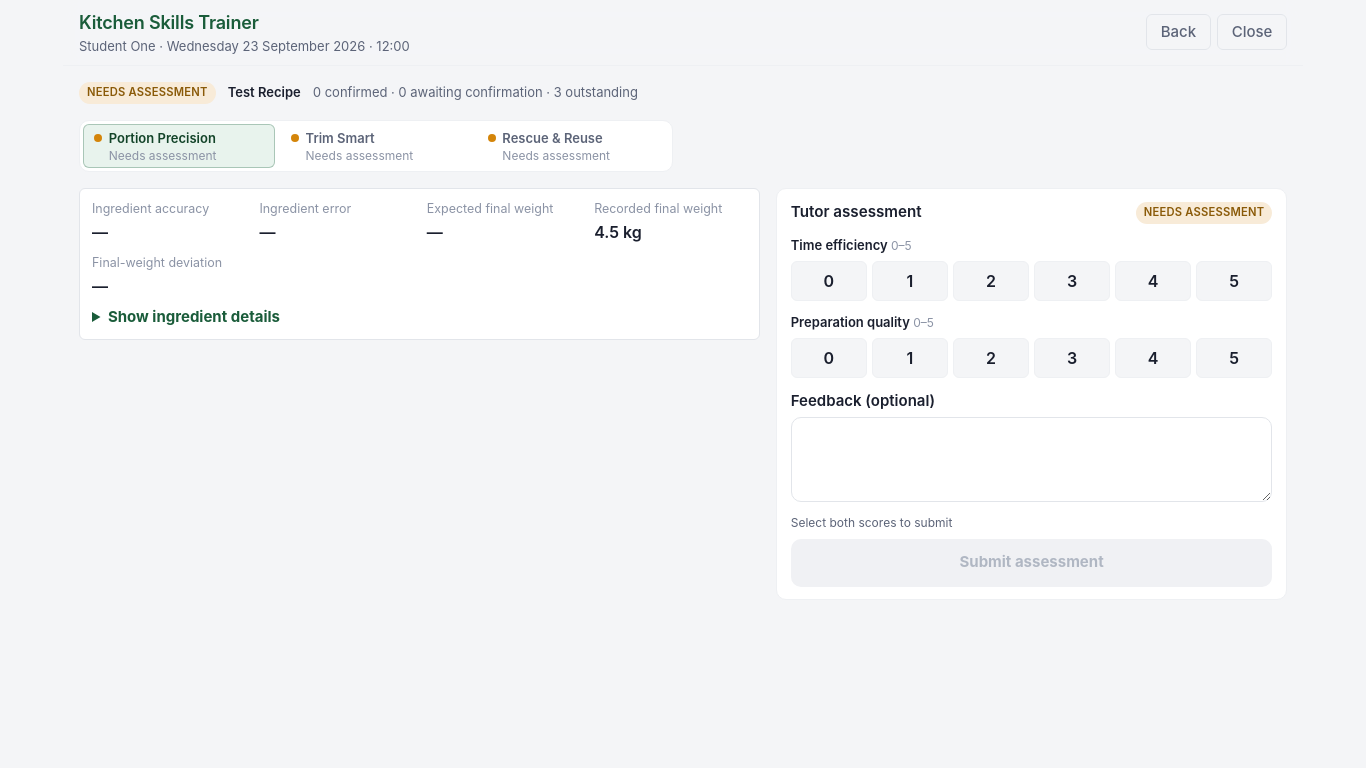
Kitchen Day module chef review › clears assessment inputs when switching module tabs
Click the tab with test id "kitchen-day-tutor-module-tab-trimSmart" at point(376, 146), box [280,124,472,168]
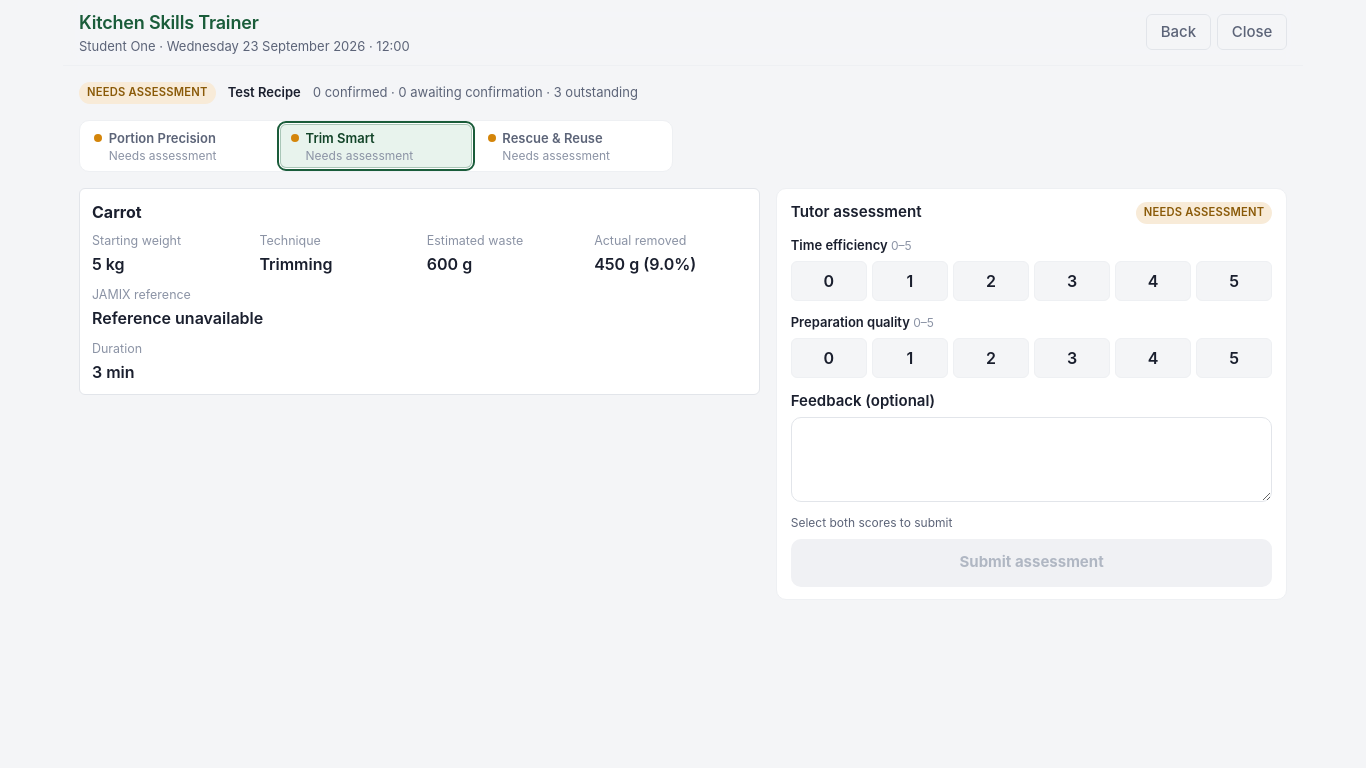
Type "4" into the field with test id "kitchen-day-review-time" at point(1032, 269), box [791,236,1272,301]
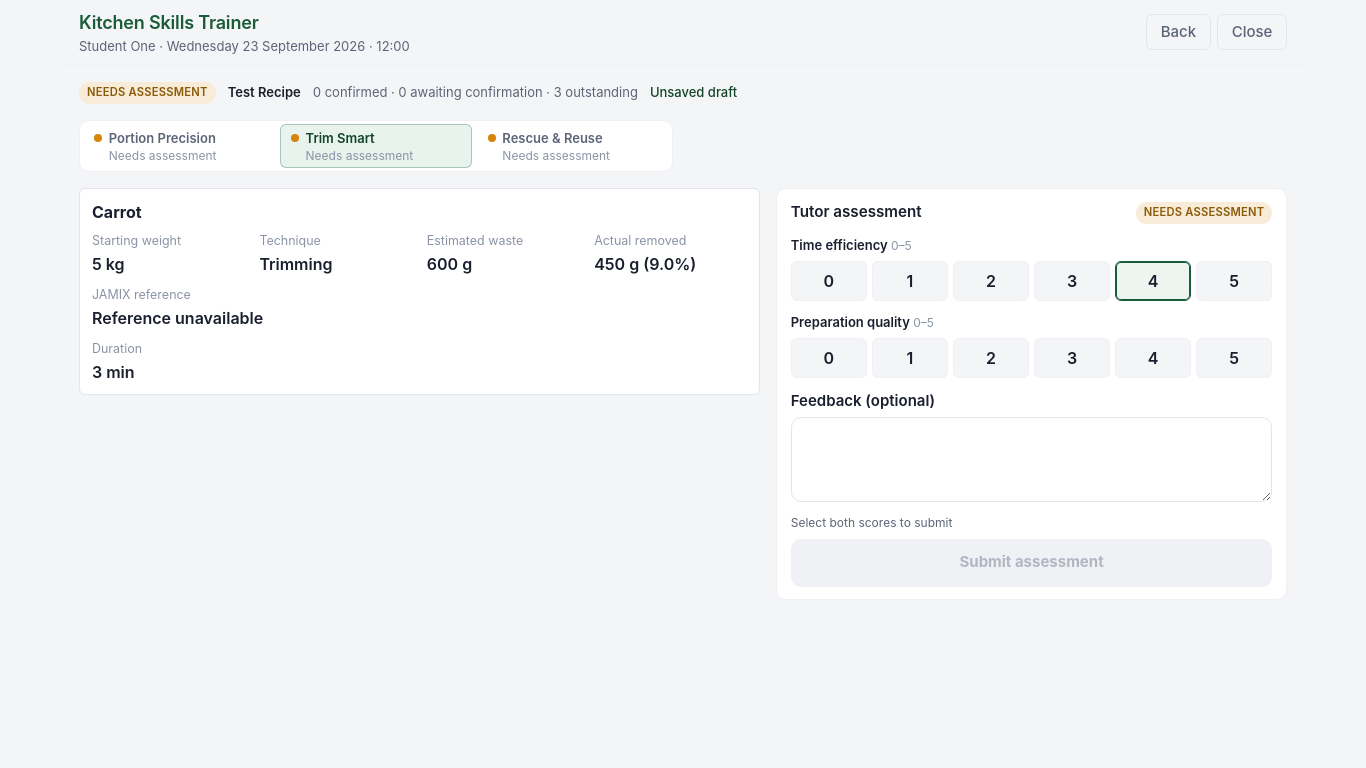
Type "5" into the field with test id "kitchen-day-review-quality" at point(1032, 346), box [791,313,1272,378]
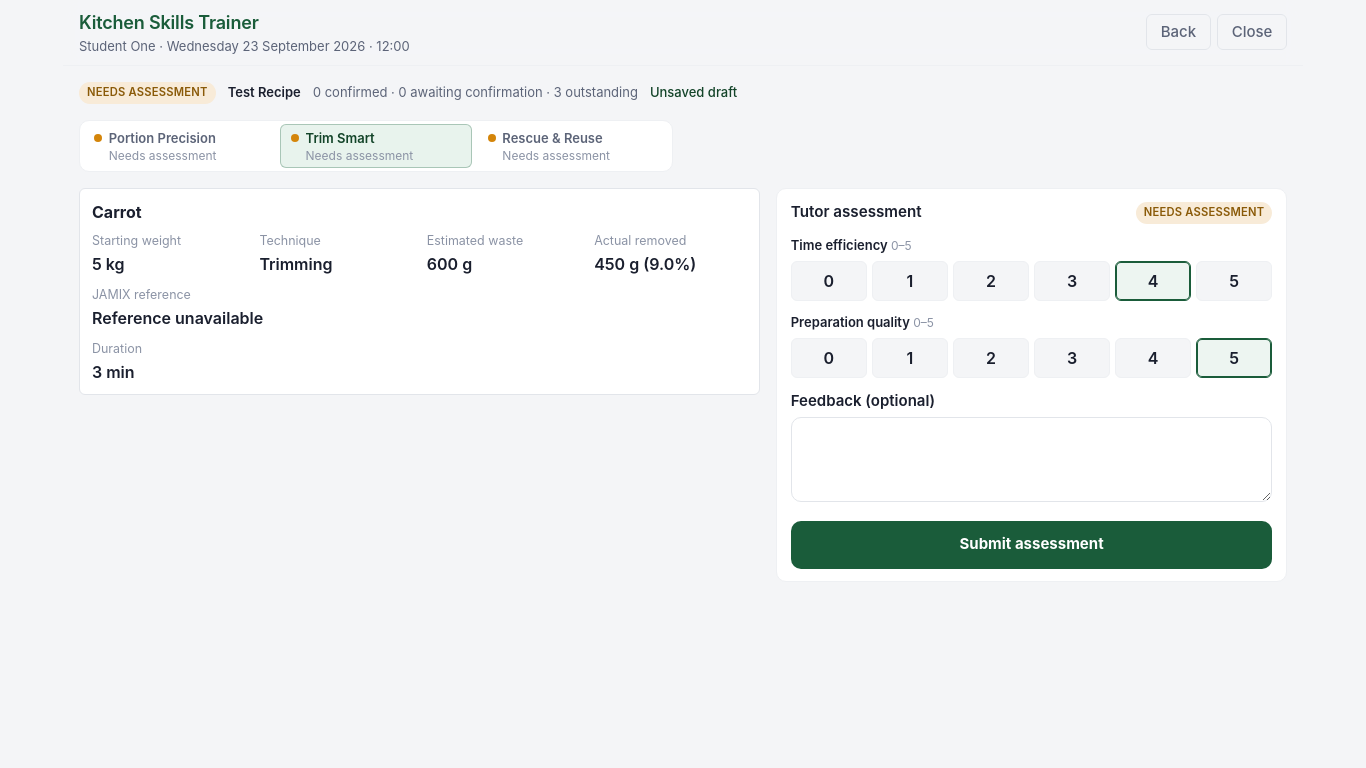
Check: the element with test id "kitchen-day-review-time" holds "4", box [791,236,1272,301]
Click the tab with test id "kitchen-day-tutor-module-tab-rescueAndReuse" at point(573, 146), box [477,124,669,168]
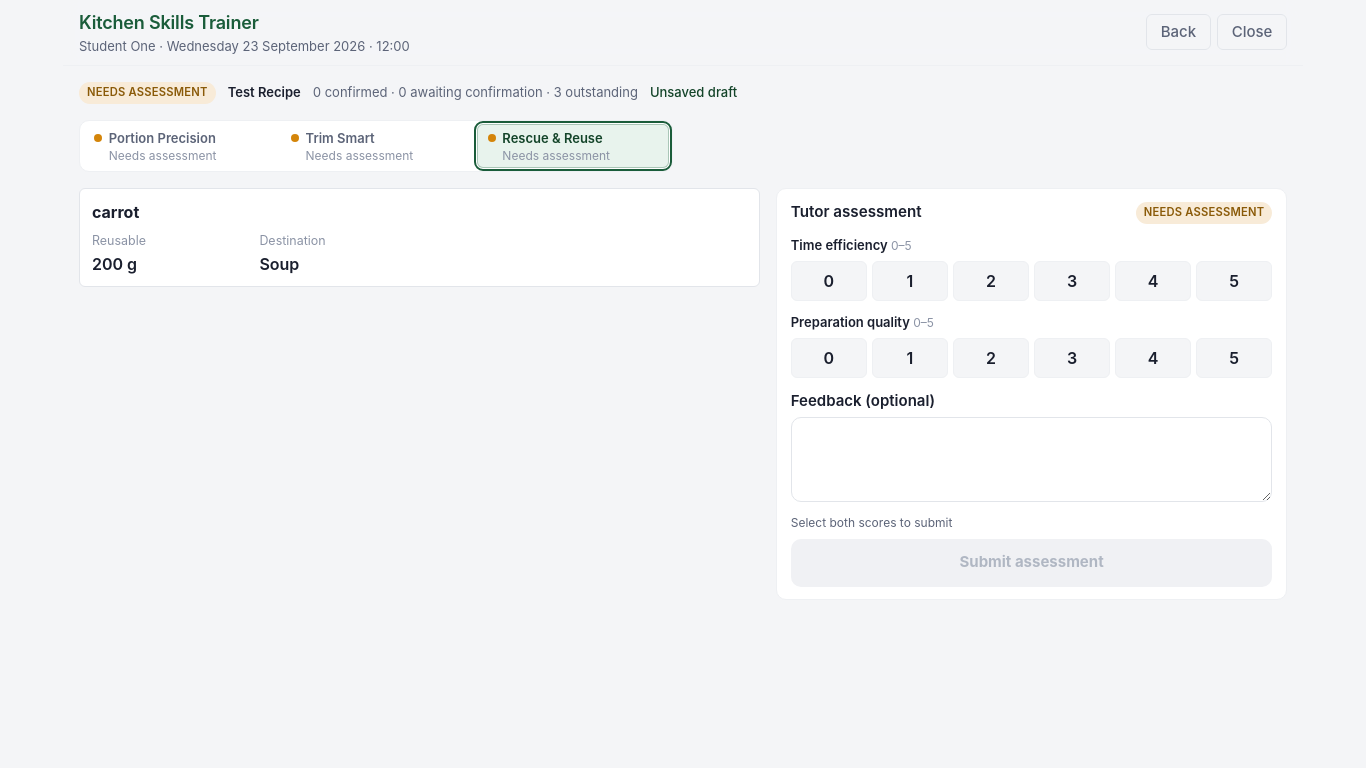
Check: the element with test id "kitchen-day-review-rescueAndReuse-time" is empty, box [791,236,1272,301]
Check: the element with test id "kitchen-day-review-rescueAndReuse-form" is shown, box [776,188,1287,600]
